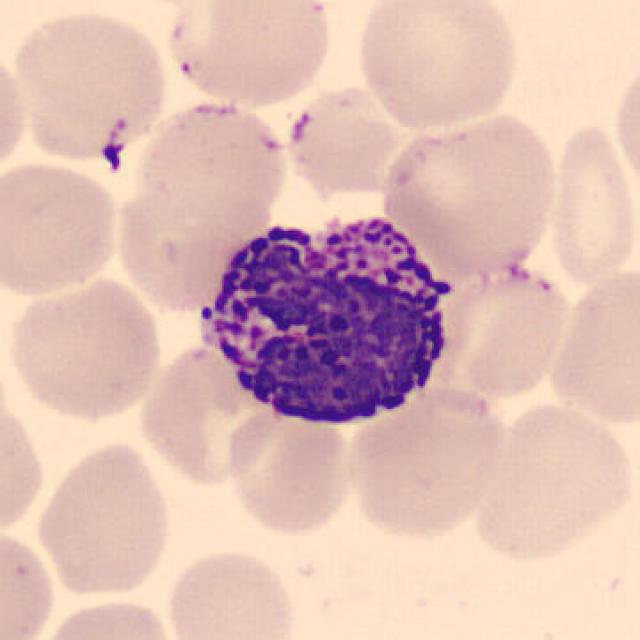Basophil: (183, 196, 469, 436)
Platelets: (98, 140, 126, 177)
RBC: (110, 94, 294, 318), (375, 107, 565, 280), (342, 377, 510, 543), (468, 398, 636, 562), (7, 3, 173, 165), (3, 273, 165, 423), (30, 438, 176, 600), (350, 0, 523, 132), (135, 341, 281, 488), (427, 259, 574, 404), (160, 0, 340, 111), (222, 397, 358, 538), (0, 157, 124, 300), (506, 508, 640, 640), (546, 115, 638, 289), (544, 263, 640, 428), (283, 81, 414, 199), (162, 545, 302, 640), (0, 390, 50, 541), (30, 594, 178, 640), (0, 525, 59, 640), (610, 58, 640, 201), (0, 42, 30, 182)
